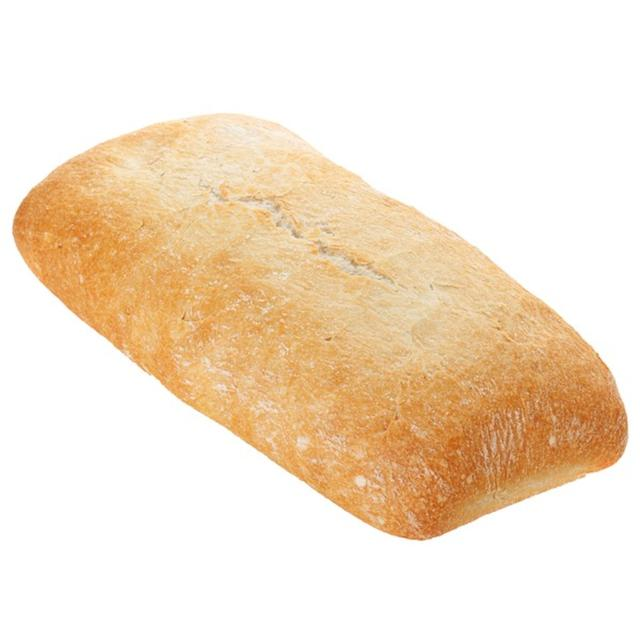Ciabatta: (14, 116, 627, 539)
